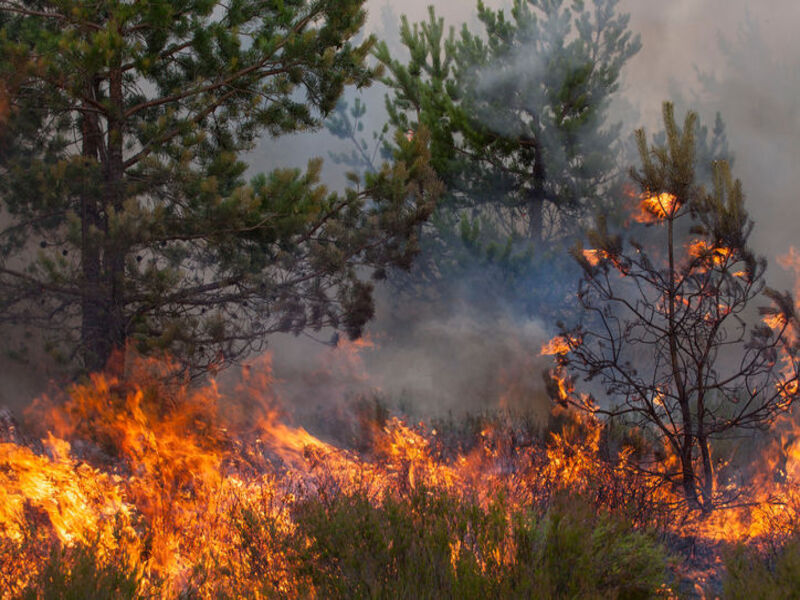fire: (8, 404, 297, 595)
